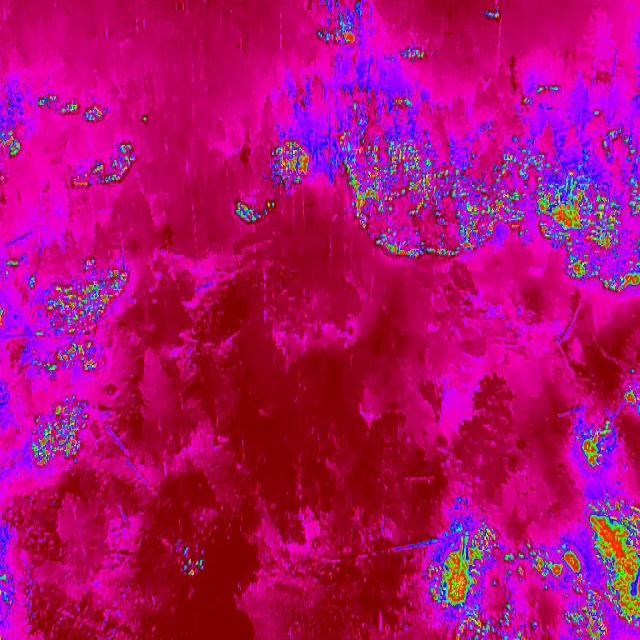fire: (324, 84, 630, 290), (0, 252, 132, 382), (427, 521, 508, 617), (588, 498, 640, 634), (31, 392, 98, 472), (506, 543, 592, 595), (66, 140, 138, 190), (34, 86, 108, 124), (268, 135, 314, 196), (451, 617, 571, 640), (314, 1, 364, 51), (560, 592, 607, 640), (578, 417, 618, 468), (233, 196, 277, 228), (0, 128, 21, 158), (402, 44, 431, 64), (622, 382, 640, 413), (182, 552, 204, 576), (480, 4, 500, 22), (138, 109, 150, 127)
